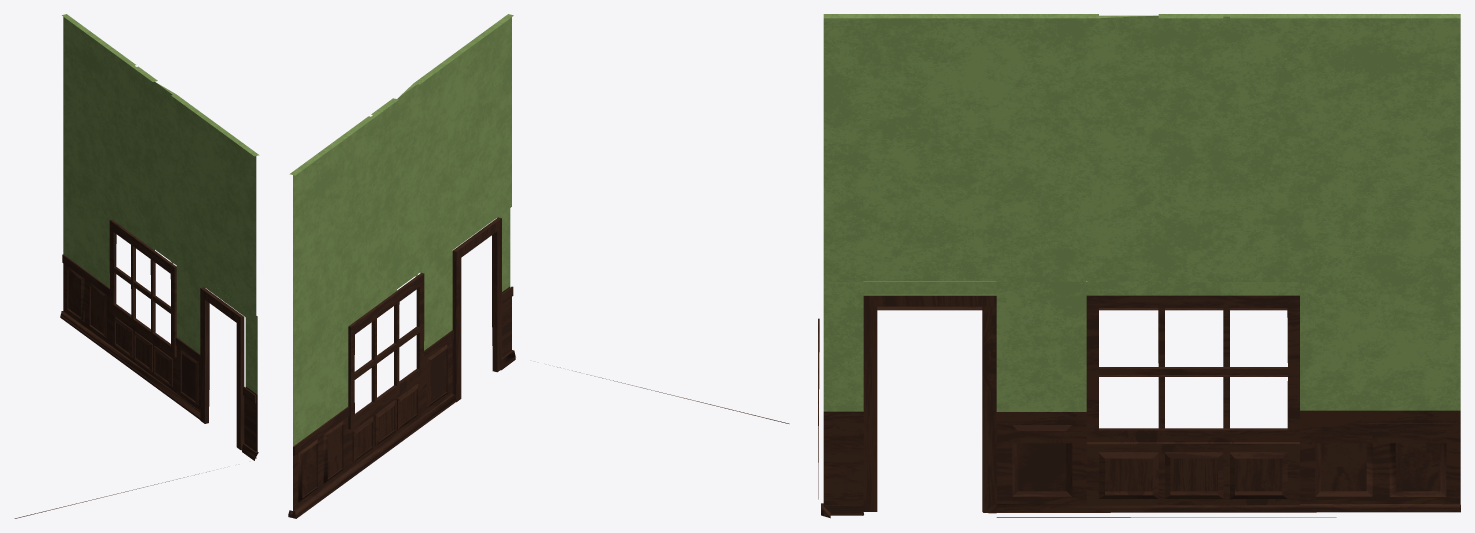
File: mdl_hub_huboutwall.gltf
The picture shows the model from 3 angles, left to right: view 1: azimuth 30°, elevation 25°; view 2: azimuth 150°, elevation 25°; view 3: azimuth 270°, elevation 25°; orthographic projection. The views are drawn at different scales.
Visible parts, largest first — view 1: Wall Textures Bake.035; view 2: Wall Textures Bake.035; view 3: Wall Textures Bake.035.
Boxes of the visible parts, left/top/right/bottom form: Wall Textures Bake.035: left=14, top=14, right=259, bottom=518; Wall Textures Bake.035: left=288, top=14, right=789, bottom=518; Wall Textures Bake.035: left=818, top=14, right=1460, bottom=518.
Size of the model in its own units: 8.84 by 10.39 by 12.06.
2 materials, 2 textured.
